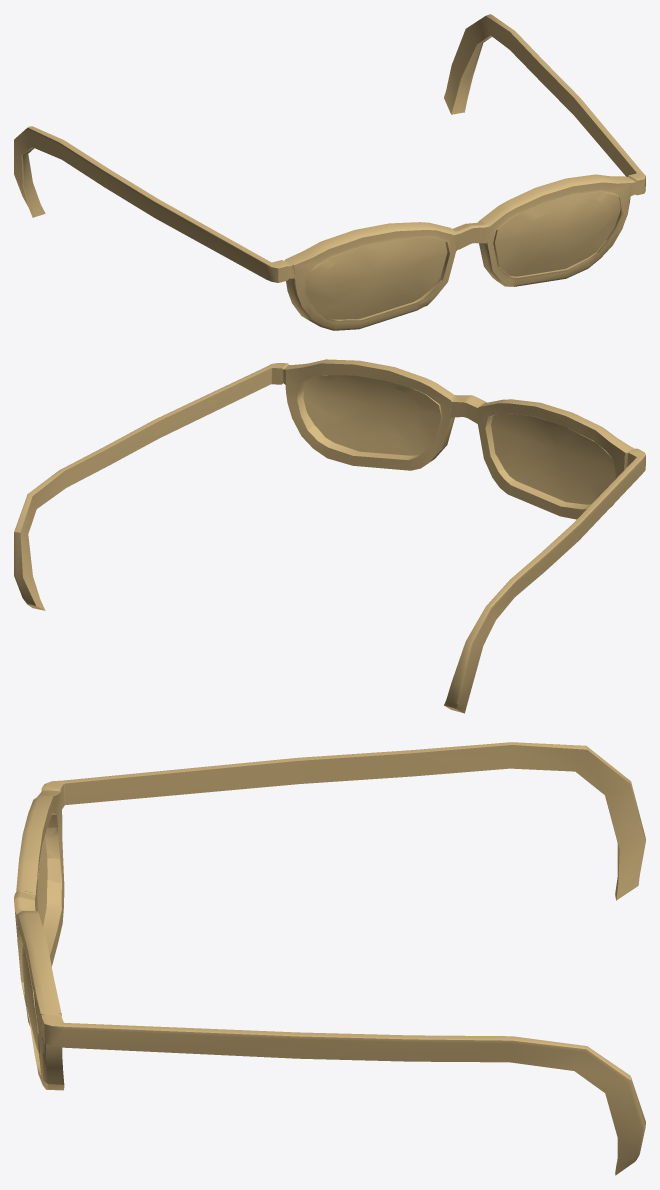
File: glasses_angular.glb
The picture shows the model from 3 angles, top to bottom: view 1: azimuth 30°, elevation 25°; view 2: azimuth 150°, elevation 25°; view 3: azimuth 270°, elevation 25°; orthographic projection. The views are drawn at different scales.
Visible parts, largest first — view 1: GlassesAngular; view 2: GlassesAngular; view 3: GlassesAngular.
Part boxes in pixels (x1=…): GlassesAngular: x1=14, y1=14, x2=645, y2=330; GlassesAngular: x1=14, y1=359, x2=645, y2=713; GlassesAngular: x1=14, y1=742, x2=645, y2=1175.
Bounding box in the file's own units: 0.1513 × 0.0361 × 0.133.
